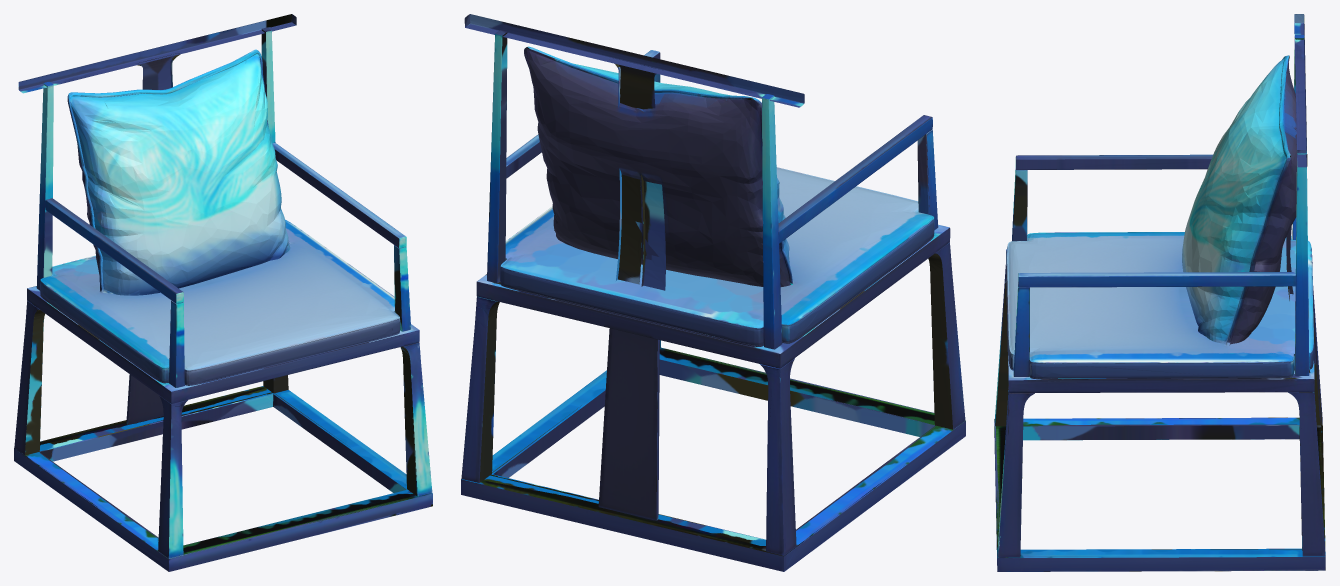
File: edited_mesh.glb
3 views of the same model, side by side, from view 1: azimuth 30°, elevation 25°; view 2: azimuth 150°, elevation 25°; view 3: azimuth 270°, elevation 25° (orthographic). The views are drawn at different scales.
Visible parts, largest first — view 1: solid_001_wire; view 2: solid_001_wire; view 3: solid_001_wire.
Boxes of the visible parts, box(x1,y1,x2,y2) form: solid_001_wire: box(14, 14, 432, 571); solid_001_wire: box(461, 14, 965, 571); solid_001_wire: box(994, 14, 1325, 571).
Bounding box in the file's own units: 1.08 × 1.46 × 1.05.
Materials: 1 (1 with a texture image).
